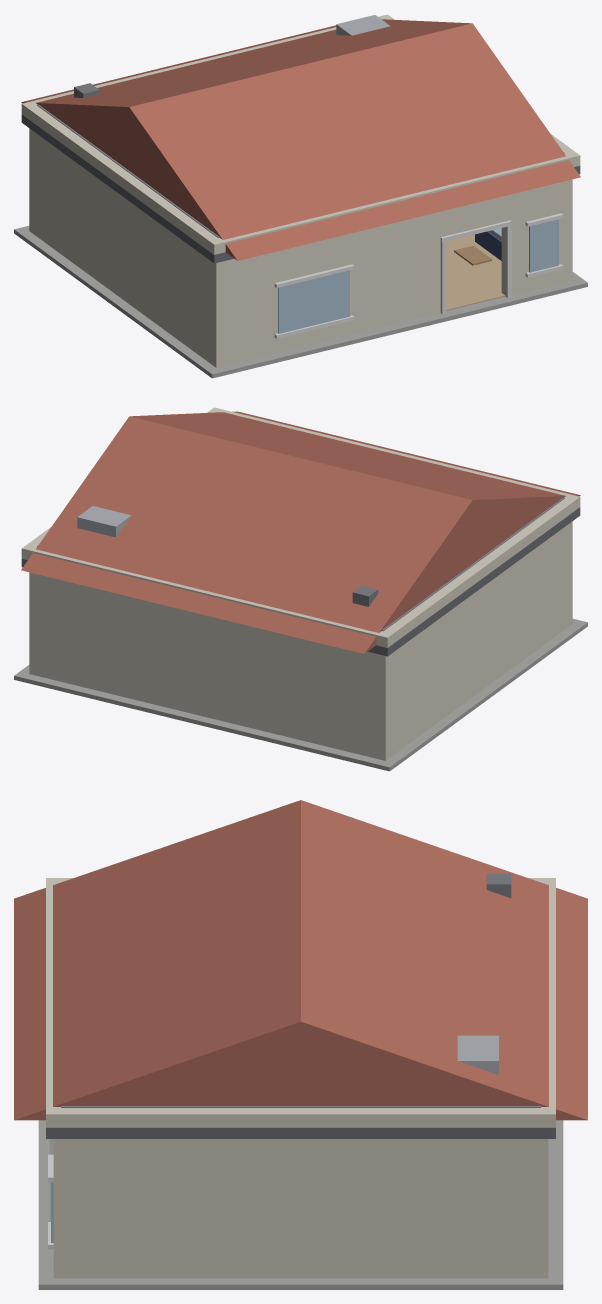
Rendered from Ev_Ic_Krem.glb.
3 renders of one model, top to bottom at view 1: azimuth 30°, elevation 25°; view 2: azimuth 150°, elevation 25°; view 3: azimuth 270°, elevation 25°, orthographic. The views are drawn at different scales.
Parts seen in each view (by area): view 1: Ev_Ic_Krem; view 2: Ev_Ic_Krem; view 3: Ev_Ic_Krem.
Part boxes in pixels (<box>): Ev_Ic_Krem: <box>14,14,587,378</box>; Ev_Ic_Krem: <box>14,407,587,771</box>; Ev_Ic_Krem: <box>14,800,587,1289</box>.
Bounding box in the file's own units: 11.6 × 5.75 × 11.6.
